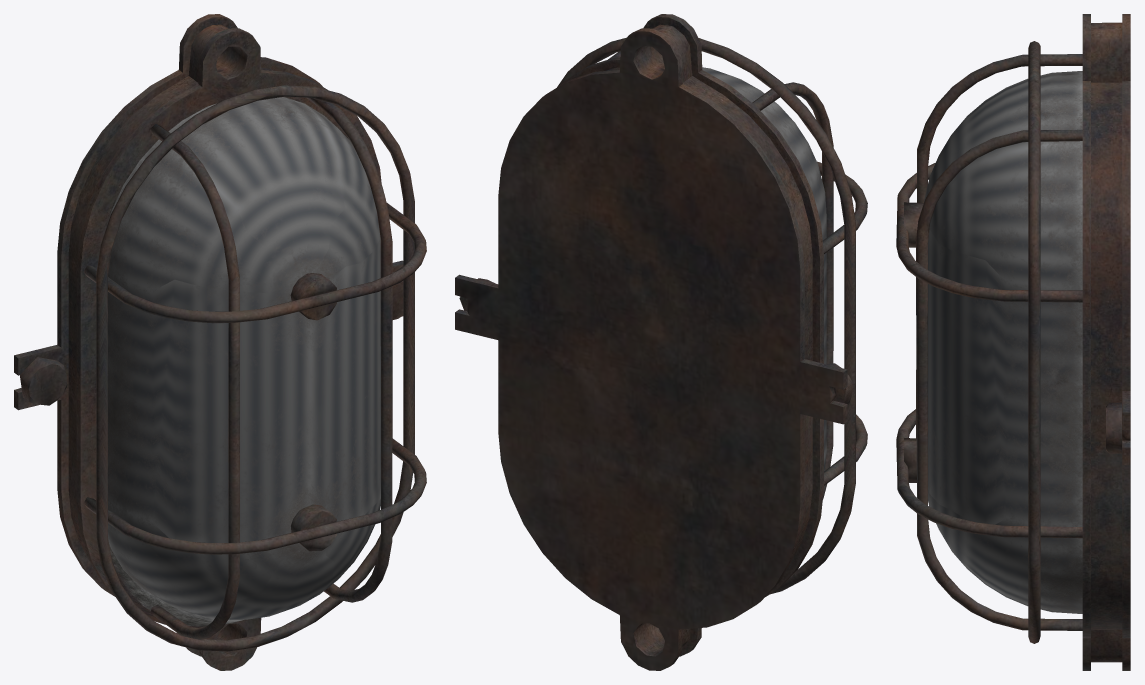
The model's file is industrial_wall_lamp.fbx.
3 views of the same model, side by side, from view 1: azimuth 30°, elevation 25°; view 2: azimuth 150°, elevation 25°; view 3: azimuth 270°, elevation 25° (orthographic).
Visible parts, largest first — view 1: industrial_wall_lamp_LOD0; view 2: industrial_wall_lamp_LOD0; view 3: industrial_wall_lamp_LOD0.
Part boxes in pixels (<box>): industrial_wall_lamp_LOD0: <box>14,14,426,670</box>; industrial_wall_lamp_LOD0: <box>455,14,867,670</box>; industrial_wall_lamp_LOD0: <box>896,14,1130,670</box>.
Size of what is drawn, in the model's own units: 27.35 by 42.99 by 14.04.
2 materials, 2 textured.
